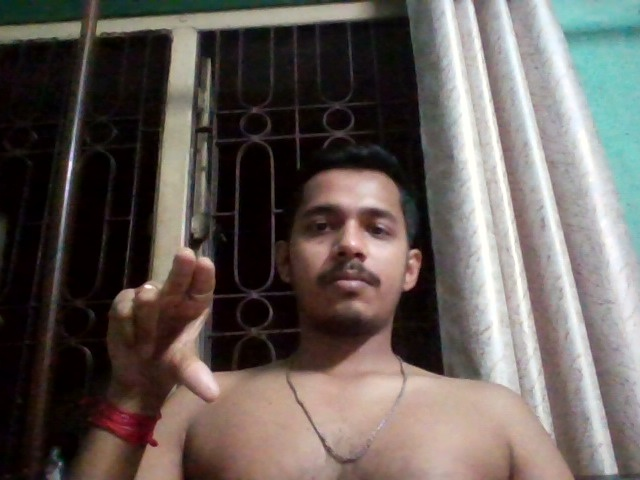No: (88, 241, 252, 410)
